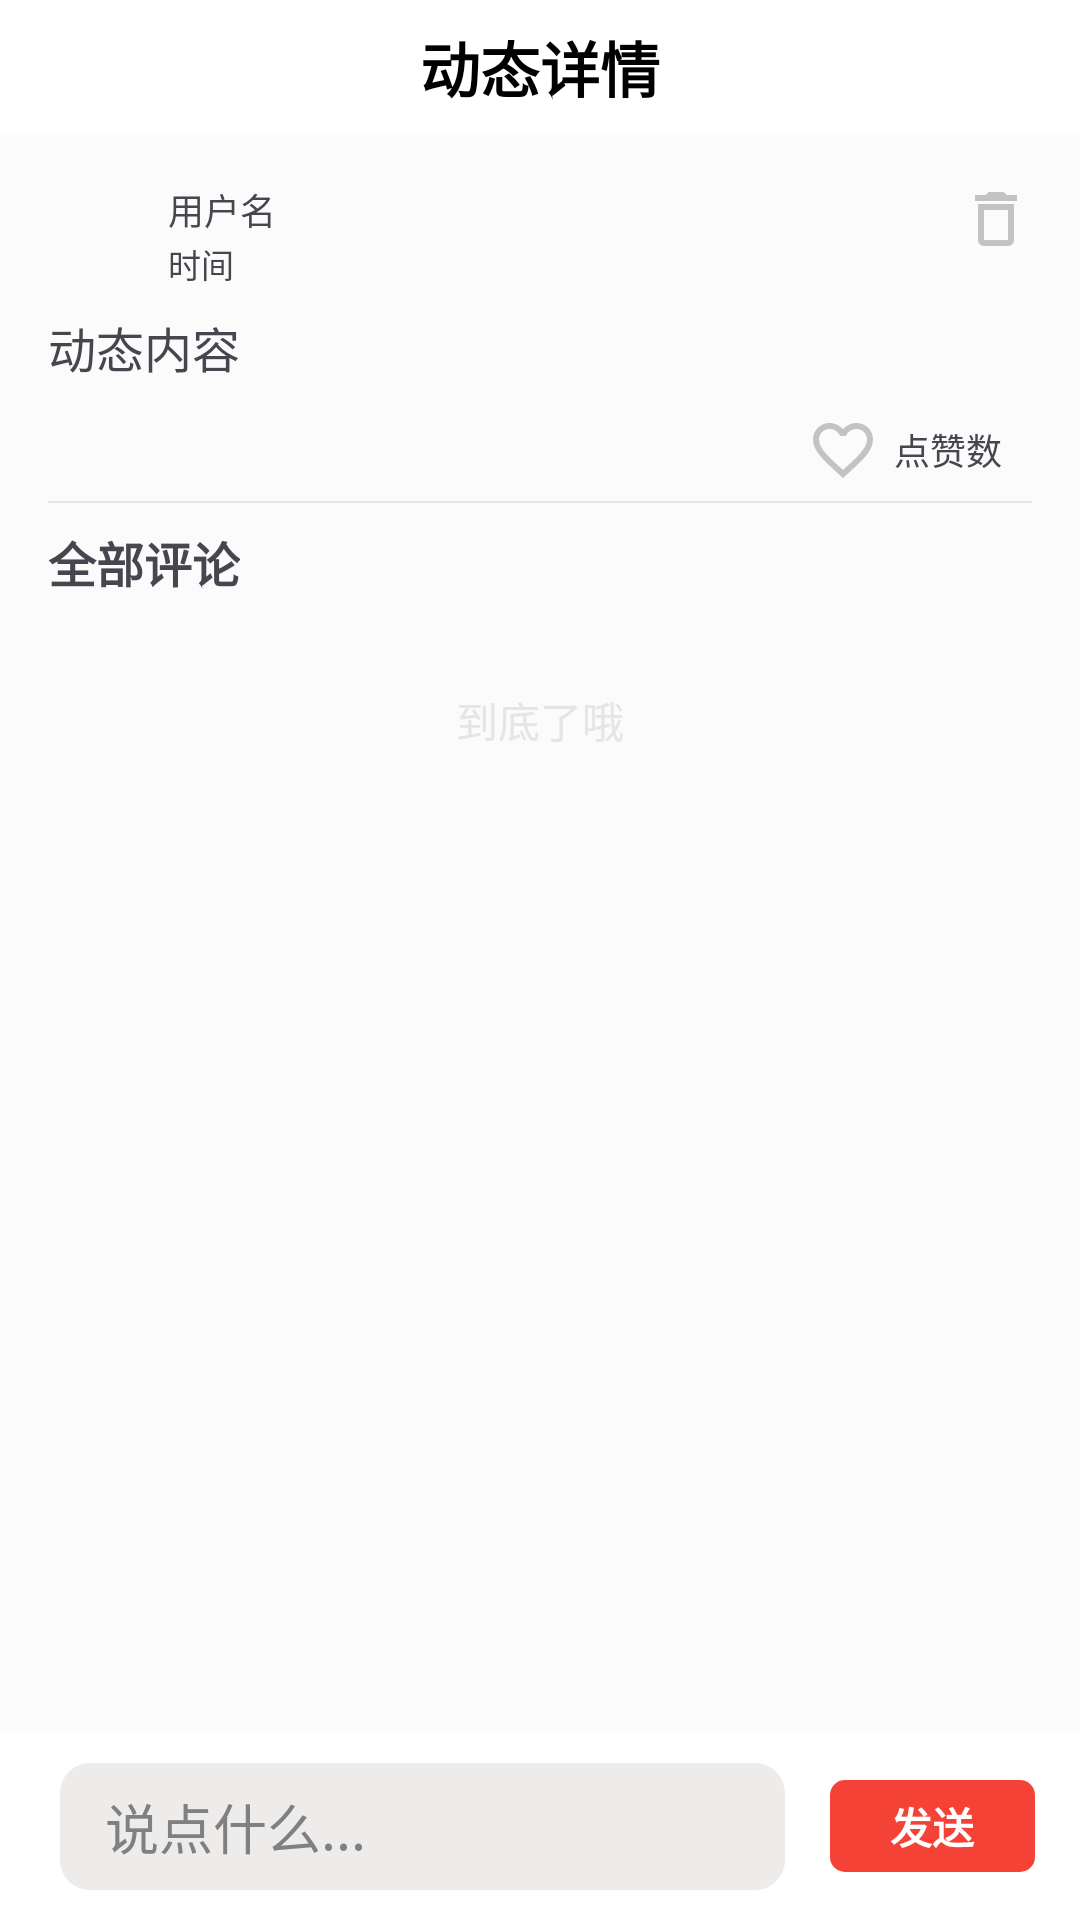

Locate icon controls on the screen. Image size 1080px x 1920px, boxes as (x1, y1, x2, y2).
delete: (975, 192, 1017, 246)
like: (813, 423, 873, 478)
